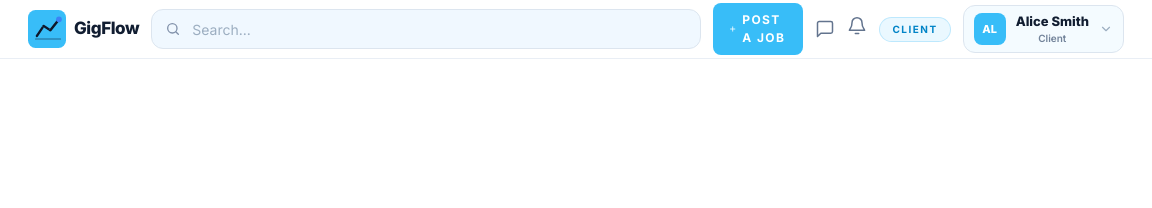
Test case: DashboardHeader Component Tests › opens notification dropdown menu when clicking notification bell button
Click the button named "notifications".
click(857, 26)  # box [847, 16, 867, 36]
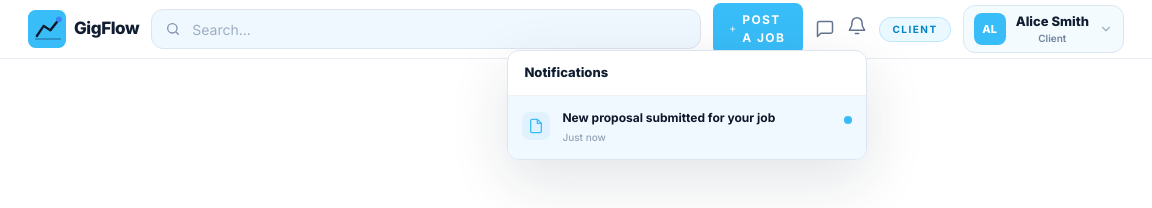
Check: the heading "Notifications" is shown, box [524, 63, 608, 82]
Check: the text "New proposal submitted for your job" is shown, box [562, 110, 775, 124]
